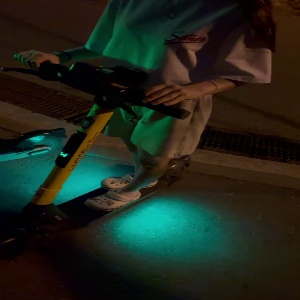human on a scooter: (1, 1, 276, 259)
